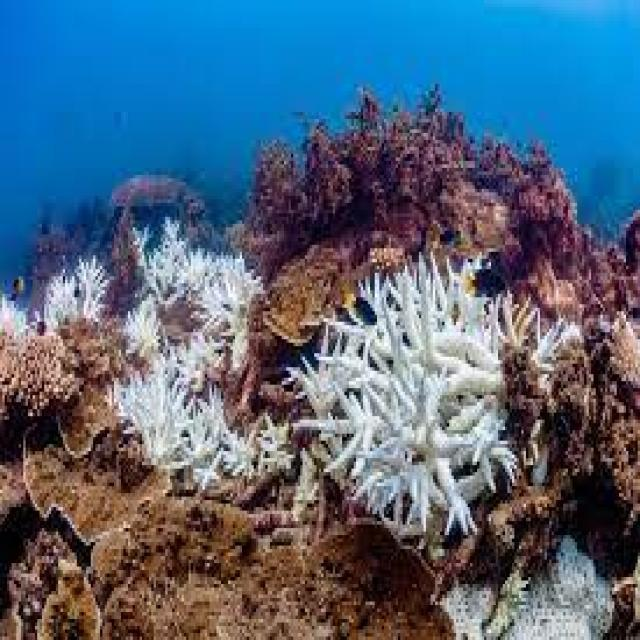Bleached: (283, 251, 548, 546), (126, 353, 283, 488), (139, 217, 257, 344), (39, 248, 115, 327)
